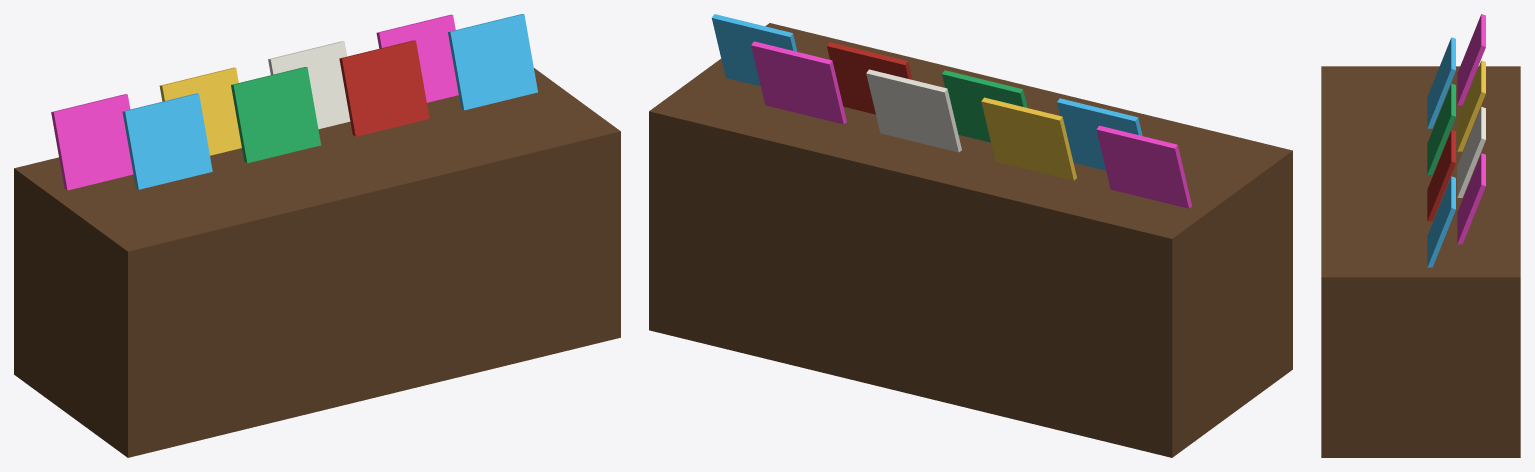
File: bin_1.glb
The picture shows the model from 3 angles, left to right: view 1: azimuth 30°, elevation 25°; view 2: azimuth 150°, elevation 25°; view 3: azimuth 270°, elevation 25°; orthographic projection. The views are drawn at different scales.
Visible parts, largest first — view 1: Box1, Box3, Box7, Box9, Box5, Box2, Box4, Box6, Box8; view 2: Box1, Box4, Box6, Box2, Box8, Box9, Box5, Box3, Box7; view 3: Box1, Box2, Box4, Box3, Box7, Box9, Box8, Box5, Box6.
Part boxes in pixels (x1,y1,x2,y2): Box1: (14, 68, 620, 457); Box3: (122, 93, 212, 189); Box7: (339, 40, 429, 136); Box9: (448, 14, 537, 110); Box5: (231, 67, 320, 163); Box2: (51, 94, 133, 190); Box4: (159, 67, 241, 155); Box6: (268, 41, 350, 129); Box8: (376, 14, 458, 102); Box1: (649, 23, 1292, 457); Box4: (981, 97, 1076, 180); Box6: (866, 69, 961, 152); Box2: (1096, 125, 1191, 208); Box8: (751, 41, 846, 124); Box9: (711, 14, 797, 86); Box5: (942, 70, 1027, 142); Box3: (1057, 98, 1142, 170); Box7: (827, 42, 912, 114); Box1: (1321, 66, 1520, 457); Box2: (1457, 14, 1485, 105); Box4: (1457, 60, 1485, 151); Box3: (1427, 37, 1455, 128); Box7: (1427, 130, 1455, 221); Box9: (1427, 176, 1455, 267); Box8: (1457, 153, 1485, 244); Box5: (1427, 83, 1455, 174); Box6: (1457, 107, 1485, 197).
Size of the model in its own units: 2 by 1.06 by 0.8.
